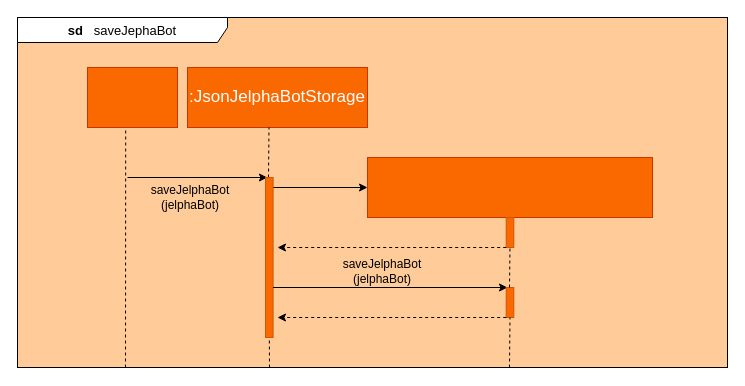
The diagram is 745 pixels wide and 386 high, and some of its shapes have lost their labels. Here are the shapes that lost their labels. From the top down, the centre of each, then its label:
At (132,97): ":Storage".
At (509,187): ":JsonSerializableReminderJelphaBot".
